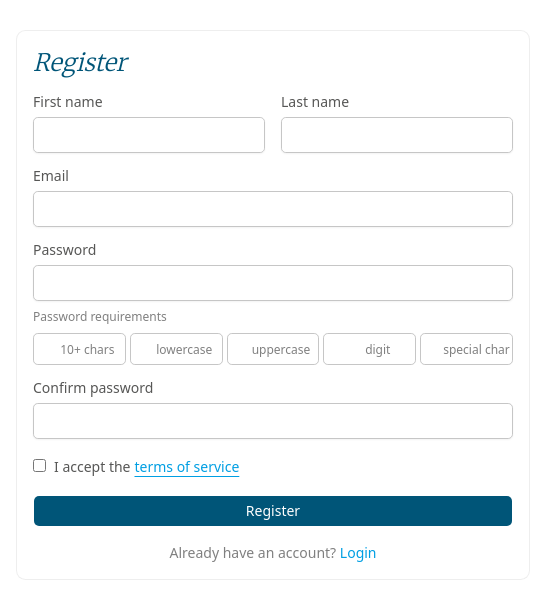
Test: RegisterPage › requires the password confirmation to match before submitting
Type "Alex" into the field labelled "First name".
click(149, 135); type("Alex")  # box [33, 117, 265, 153]
Type "Miller" into the field labelled "Last name".
click(397, 135); type("Miller")  # box [281, 117, 513, 153]
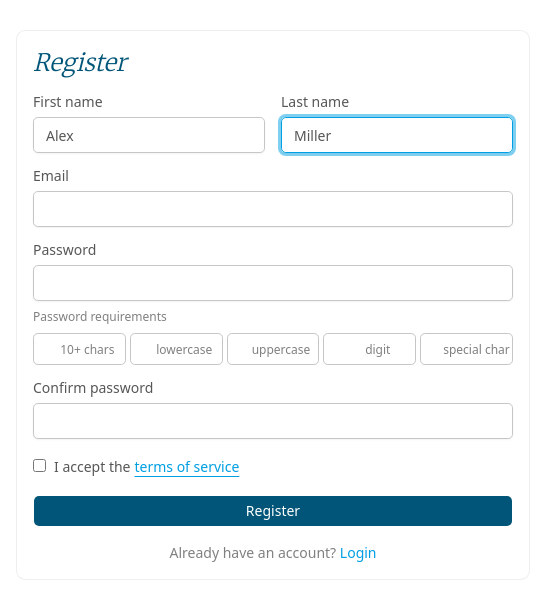
Type "alex@example.com" into the field labelled "Email".
click(273, 209); type("alex@example.com")  # box [33, 191, 513, 227]
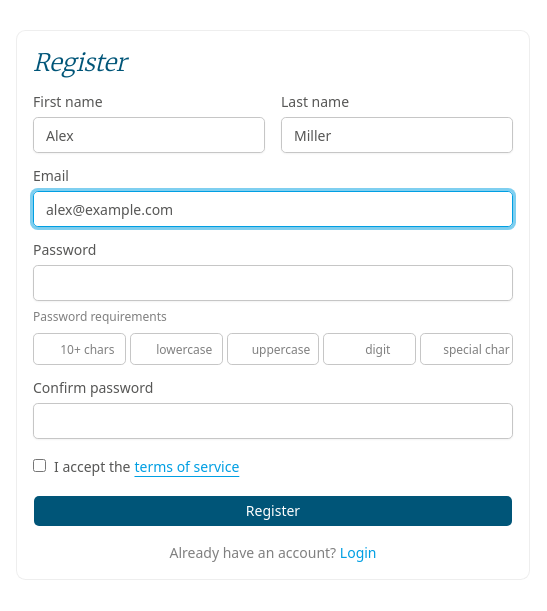
Type "Abcdefg!12" into the password field labelled "Password".
click(273, 283); type("Abcdefg!12")  # box [33, 265, 513, 301]
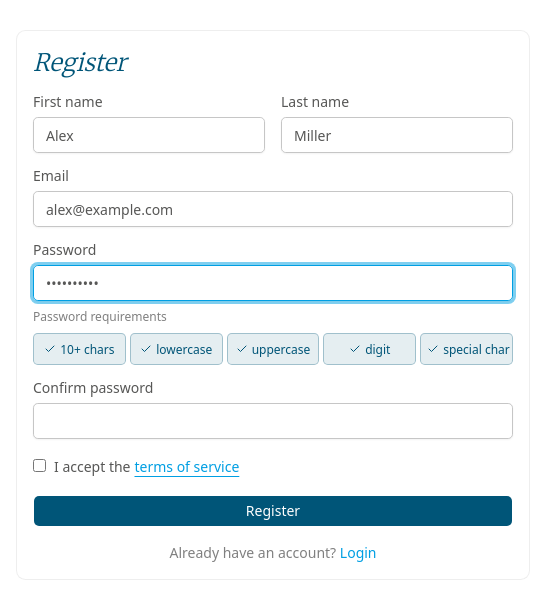
Type "Abcdefg!34" into the password field labelled "Confirm password".
click(273, 421); type("Abcdefg!34")  # box [33, 403, 513, 439]
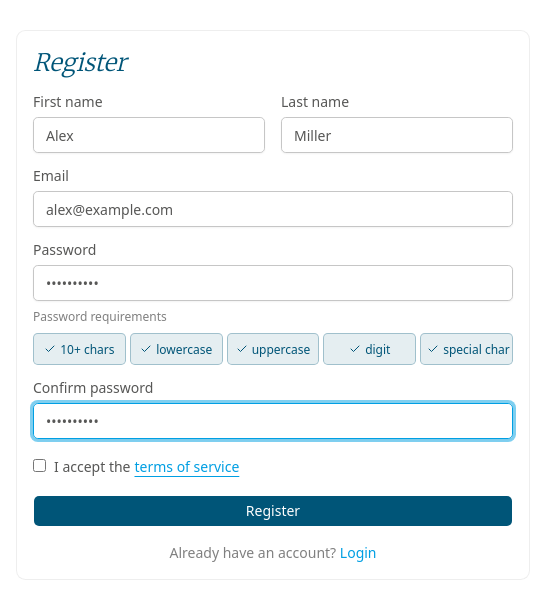
Click the checkbox named "I accept the terms of service".
click(40, 466)  # box [33, 459, 46, 472]
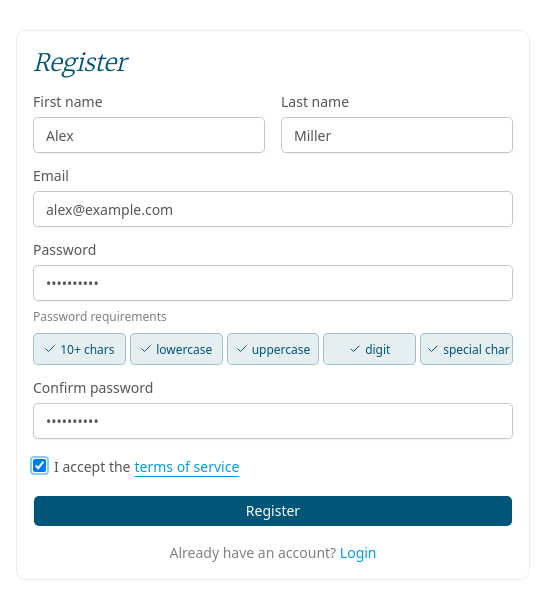
Click the button "Register".
click(273, 511)  # box [33, 495, 513, 527]
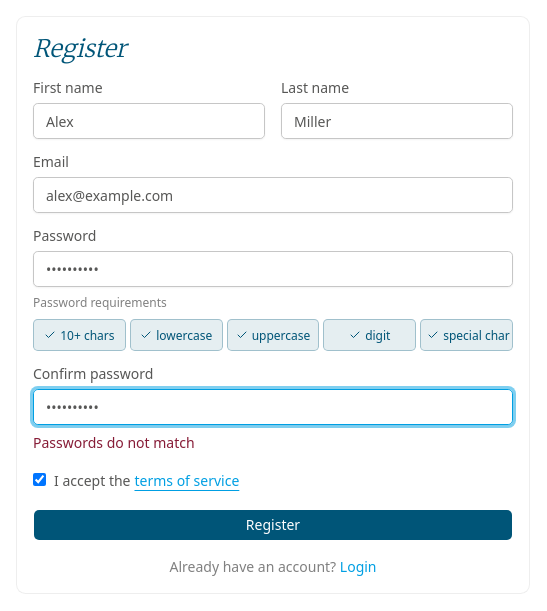
expect the text "Passwords do not match" is shown: met, box [33, 433, 195, 452]
